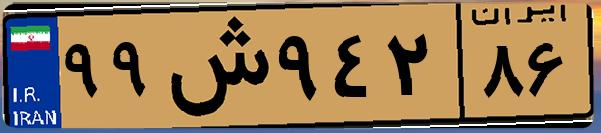2: (385, 28, 445, 110)
4: (330, 28, 385, 110)
6: (525, 38, 570, 115)
8: (475, 38, 525, 113)
9: (270, 28, 330, 110), (57, 26, 110, 100), (110, 28, 158, 98)
ش: (158, 12, 270, 120)
